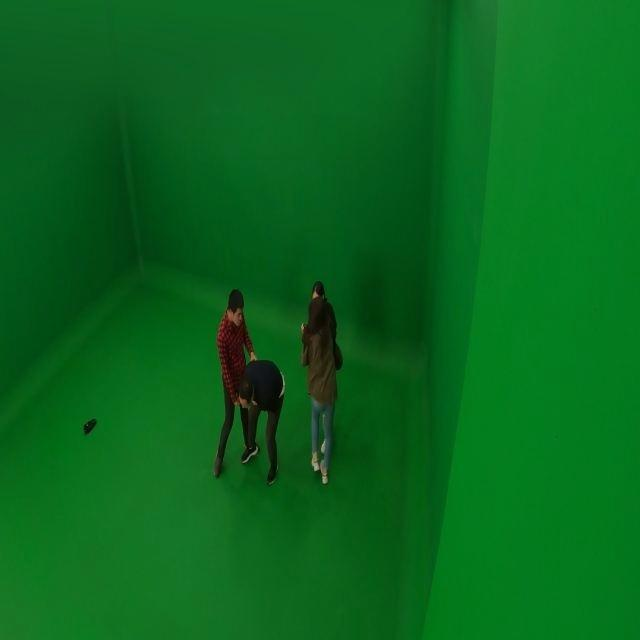fight: (210, 286, 287, 486)
non-fight: (297, 296, 347, 486)
